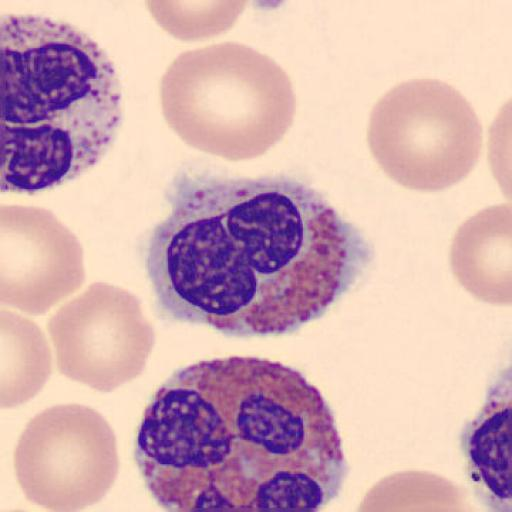Platelet: (461, 368, 512, 512)
RBC: (159, 39, 299, 164), (365, 75, 484, 194), (47, 279, 156, 394), (11, 399, 121, 512), (2, 201, 88, 317), (448, 202, 512, 308), (349, 468, 490, 512), (2, 308, 53, 410), (142, 0, 250, 42), (486, 96, 512, 204), (247, 0, 295, 11)
WBC: (146, 175, 370, 336), (132, 359, 350, 510), (0, 12, 129, 194)
